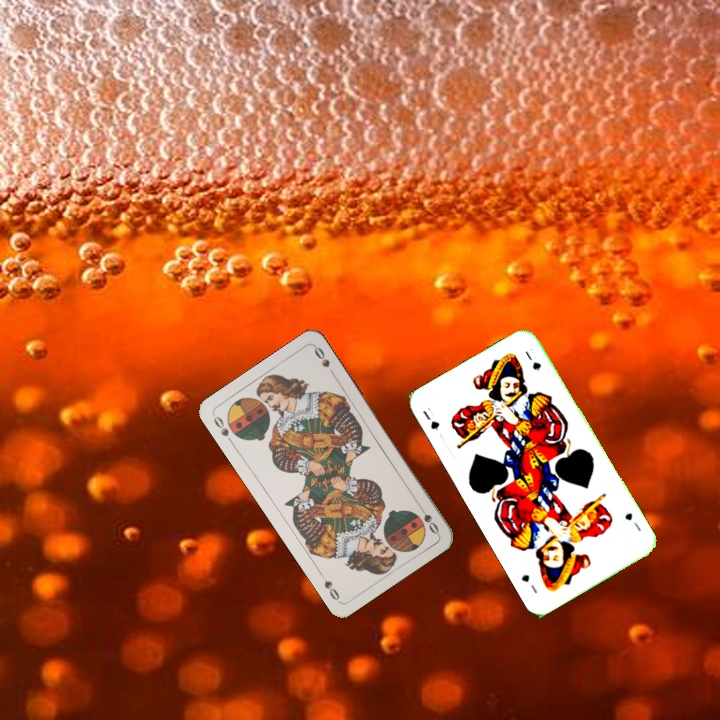GU: (418, 403, 442, 433), (621, 508, 644, 534)
SO: (414, 500, 441, 537), (209, 411, 236, 447)
